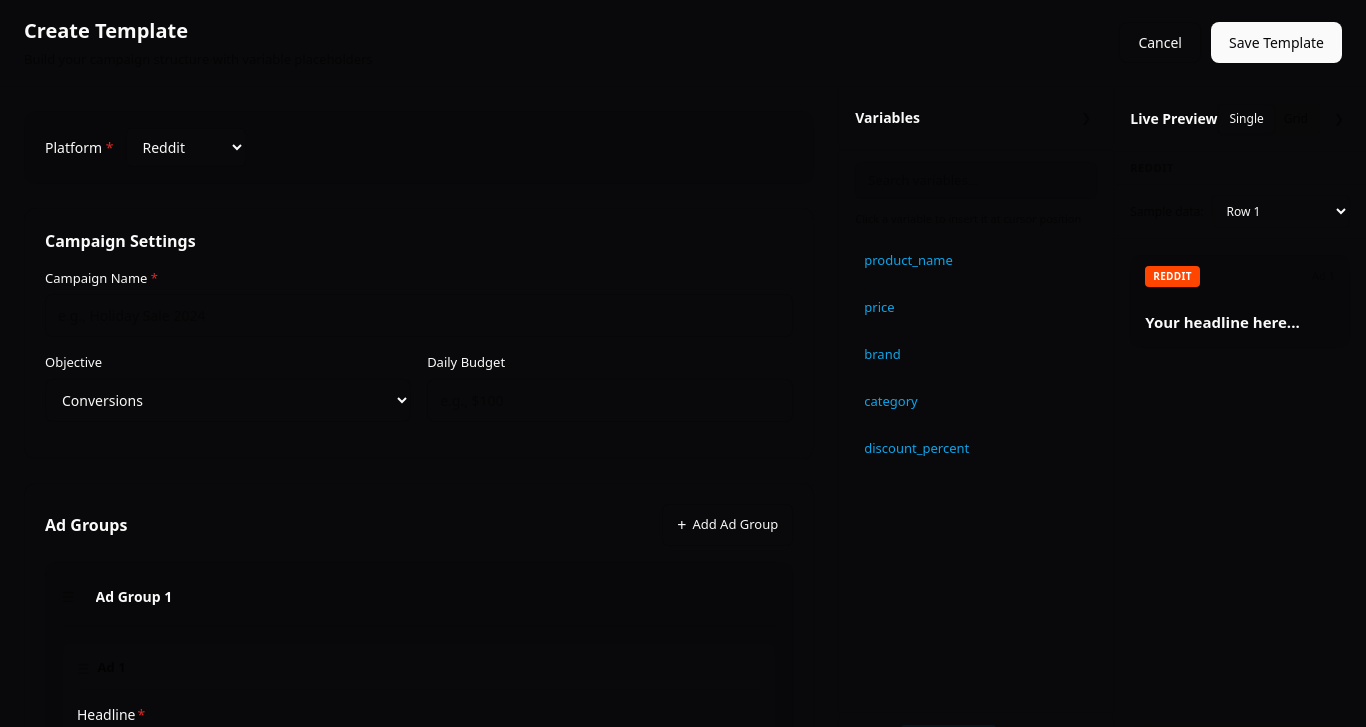
Test: TemplateEditorV2 › Save/Cancel Behavior › shows validation error when required fields missing
The image size is (1366, 727).
Click the button "Save Template": (1276, 43) [1211, 22, 1342, 63]
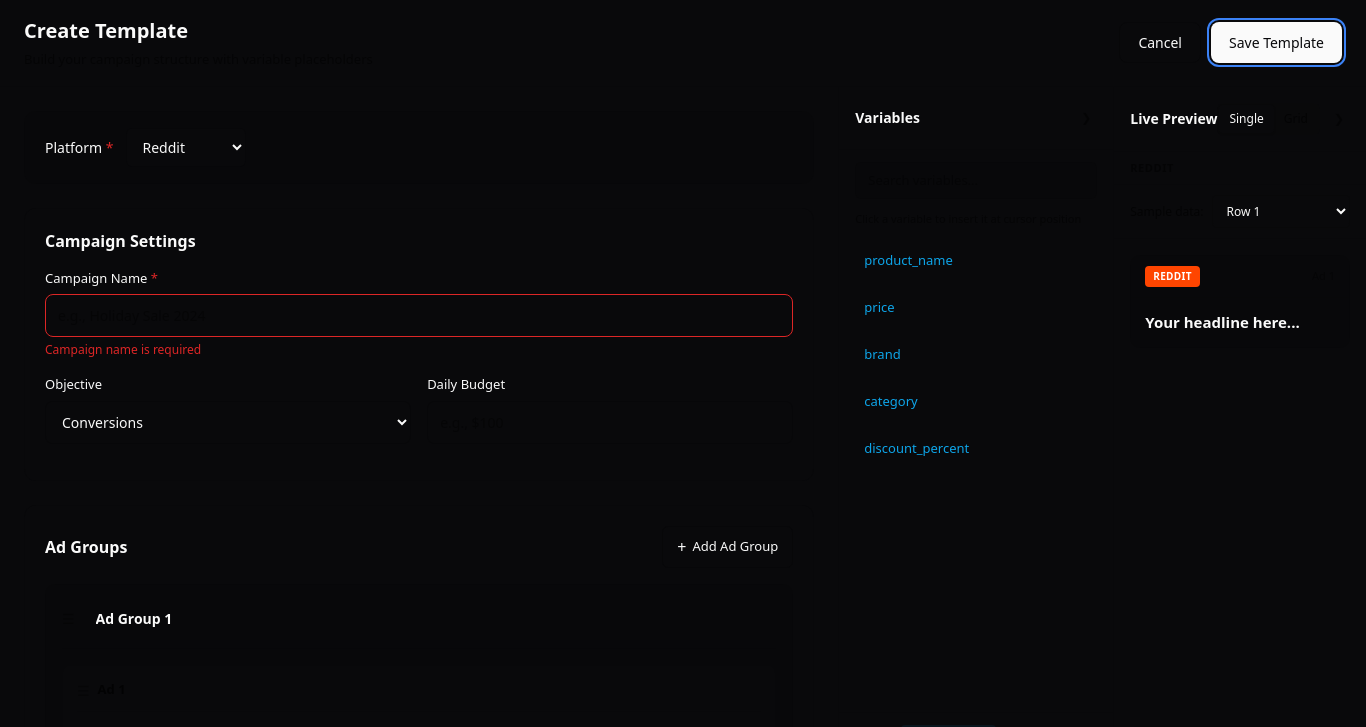
Result: the text "Campaign name is required" is shown at [45, 341, 201, 358]
